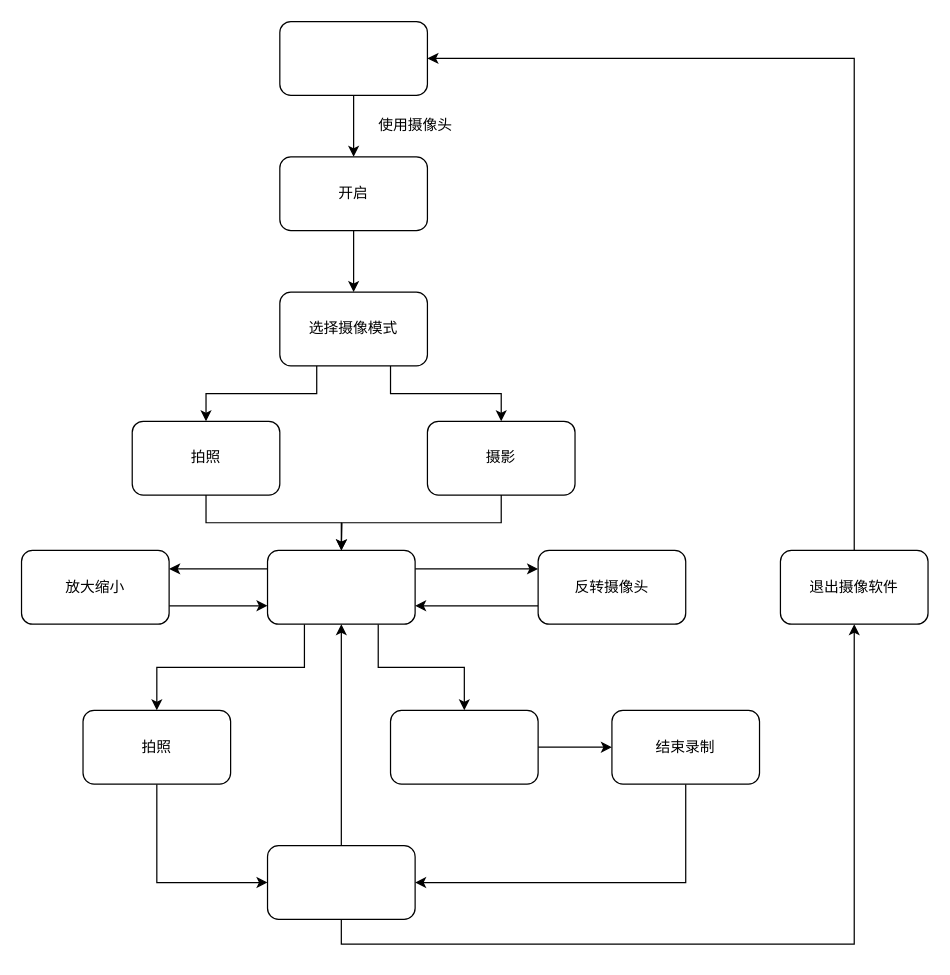
Some shapes in this 950 by 975 pixel diagram are drawn without their labels. The centre of each missing label's shape, as x and y in pixels:
关闭: point (353, 57)
将结果存回图库: point (340, 881)
录像: point (463, 746)
摄像系数调整: 如光圈、对比度等等: point (340, 586)
